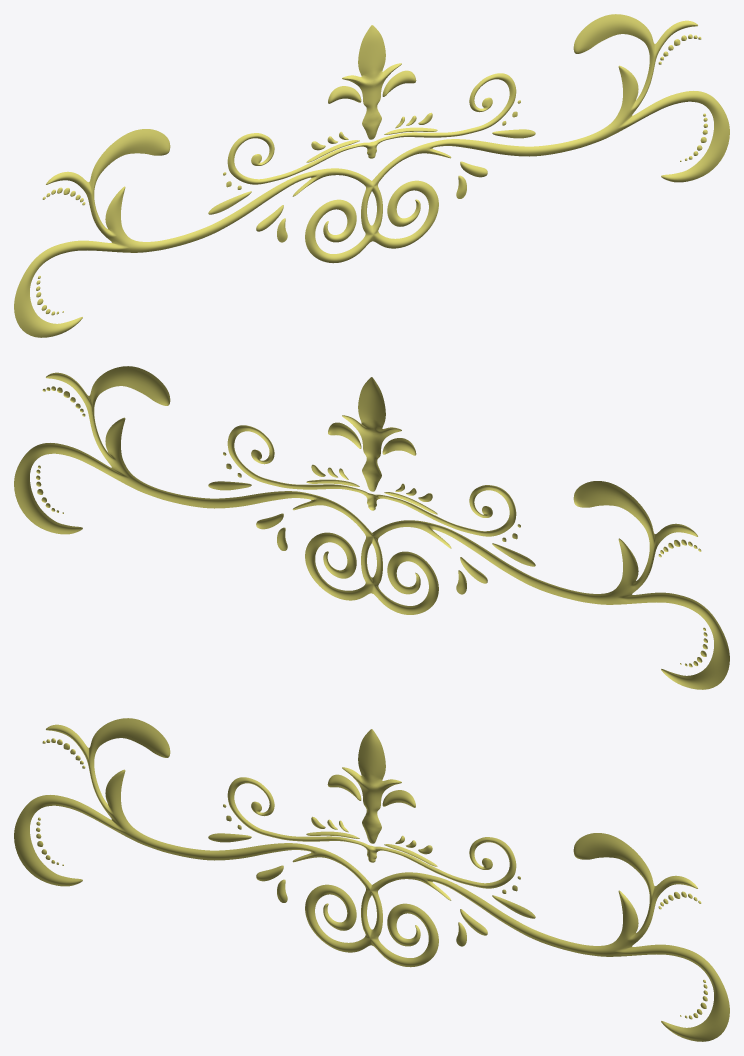
Rendered from gate_fence_iron_gold_ornate_ornament.glb.
3 renders of one model, top to bottom at view 1: azimuth 30°, elevation 25°; view 2: azimuth 150°, elevation 25°; view 3: azimuth 330°, elevation 25°, orthographic.
Visible parts, largest first — view 1: Plane_3; view 2: Plane_3; view 3: Plane_3.
Boxes of the visible parts, <box> form: Plane_3: <box>14,14,729,337</box>; Plane_3: <box>14,366,729,689</box>; Plane_3: <box>14,718,729,1041</box>.
Bounding box in the file's own units: 4.19 × 1.31 × 0.0253.
